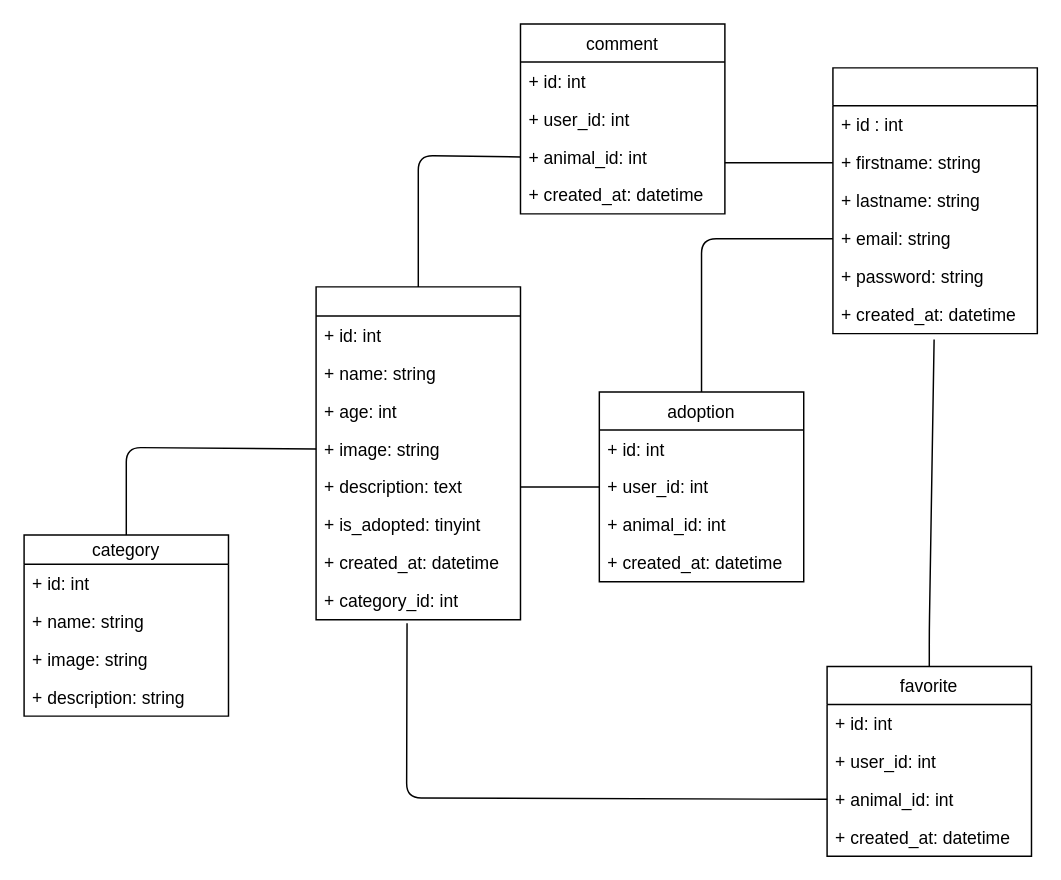
This 1061x880 diagram has some shape labels left out. The shapes that lost their labels are listed below. From the top down, each one's box as (x1, y1, x2, y2) in pixels, then its label:
(831, 66, 1037, 334): user
(315, 285, 520, 620): animal
